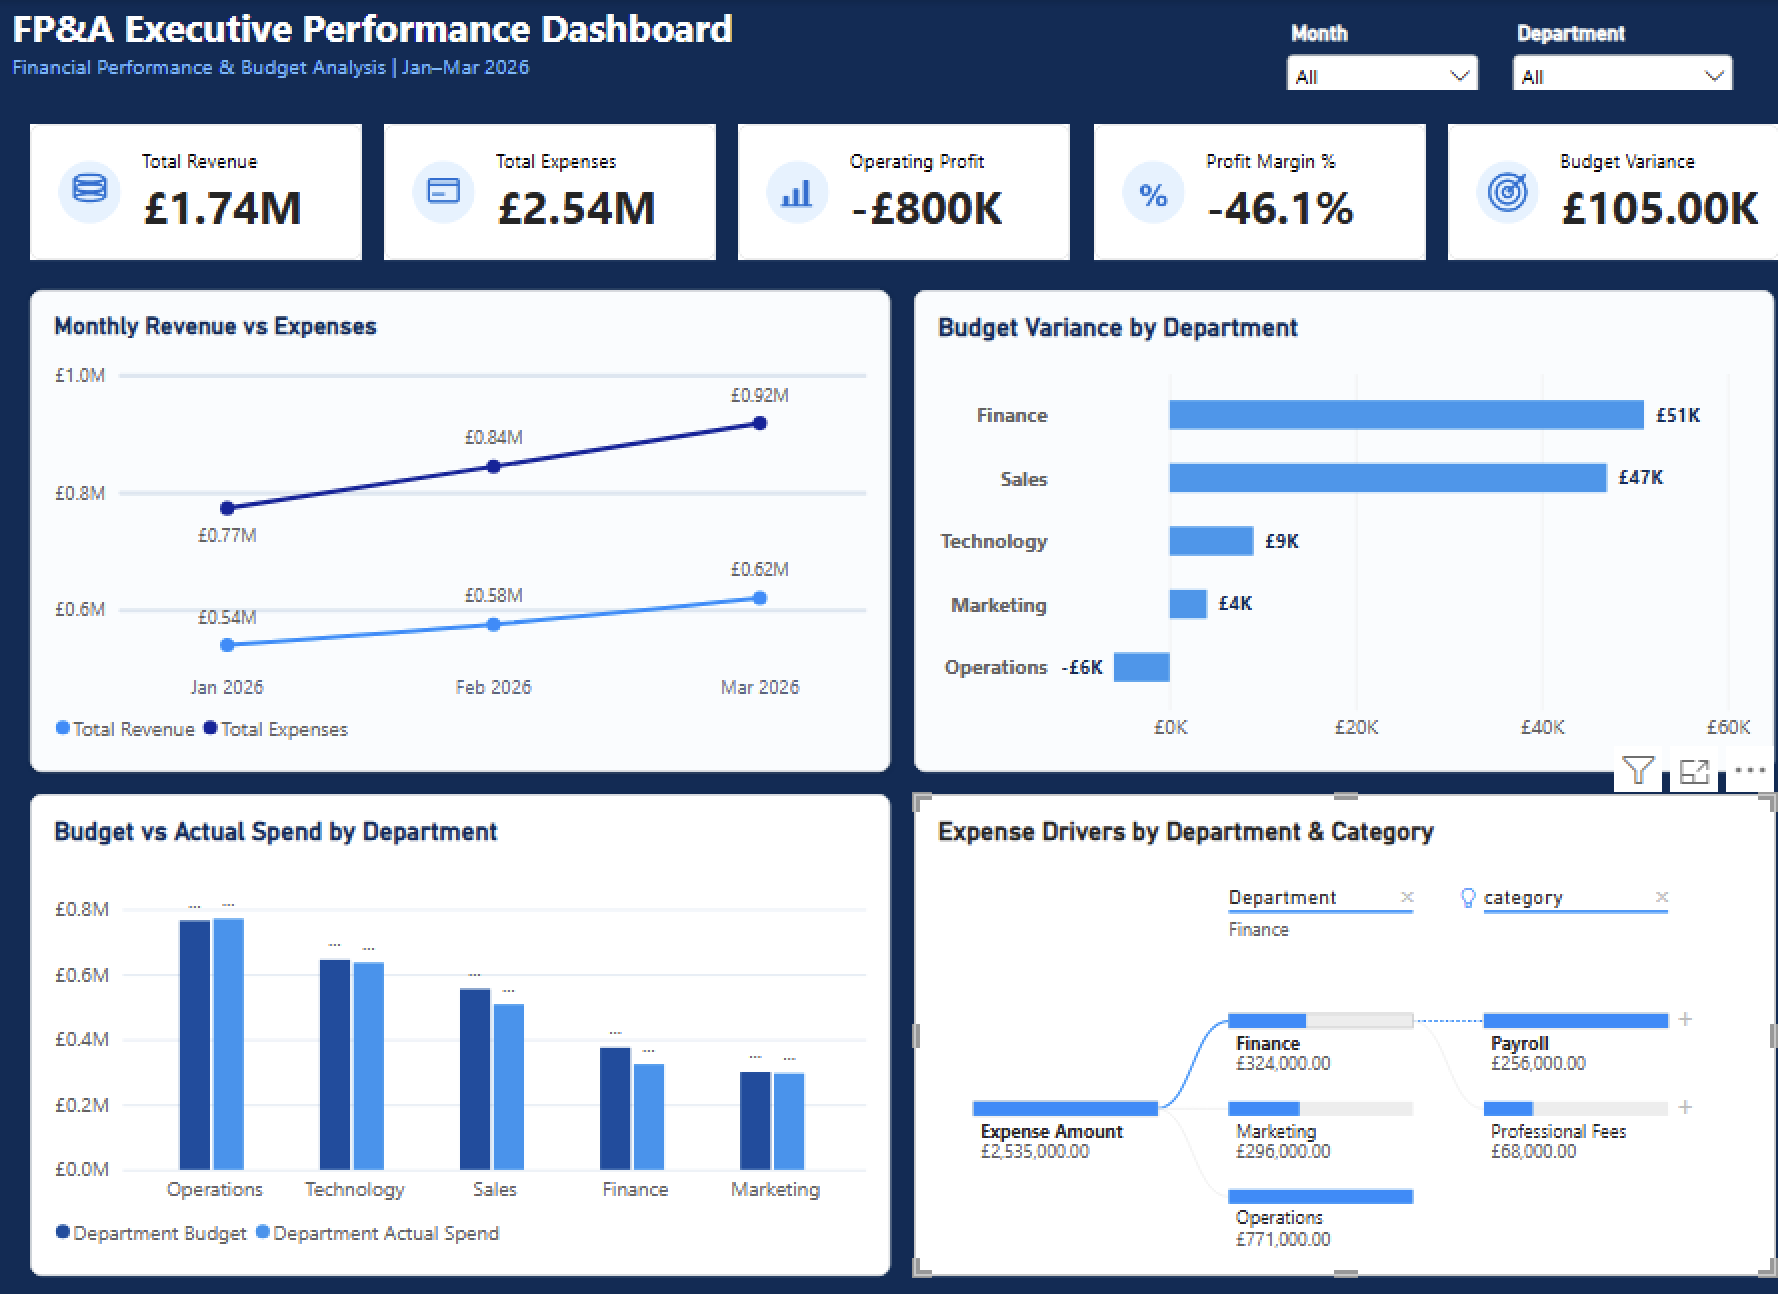

Layout of this report page (visuals, bound fields, positions):
{"tool":"powerbi","page":{"name":"Page 1","canvas":[1280,924],"ordinal":0},"visuals":[{"type":"shape","box":[0,0,1280,72],"z":0},{"type":"textbox","box":[10,0,280,280],"z":1000},{"type":"textbox","box":[11.1,0,1280,68],"z":2000},{"type":"cardVisual","fields":{"Data":["Monthly KPIs.Total Revenue"]},"box":[24,88,234,96],"z":3000},{"type":"lineChart","title":"Monthly Revenue vs Expenses","fields":{"Category":["Dim Date.Month"],"Y":["Monthly KPIs.Total Revenue","Monthly KPIs.Total Expenses"]},"box":[24,204,607,340],"z":4000},{"type":"clusteredColumnChart","title":"Budget vs Actual Spend by Department","fields":{"Category":["Dim Department.Department"],"Y":["Department Performance.Department Budget","Department Performance.Department Actual Spend"]},"box":[24,560,607,340],"z":5000},{"type":"clusteredBarChart","title":"Budget Variance by Department","fields":{"Category":["Dim Department.Department"],"Y":["Department Performance.Department Variance"]},"box":[648,204,607,340],"z":6000},{"type":"slicer","fields":{"Values":["Dim Date.Month"]},"box":[905,15,145,48],"z":7000},{"type":"slicer","fields":{"Values":["Dim Department.Department"]},"box":[1065,15,165,48],"z":8000},{"type":"cardVisual","fields":{"Data":["Monthly KPIs.Total Expenses"]},"box":[274,88,234,96],"z":9000},{"type":"cardVisual","fields":{"Data":["Monthly KPIs.Operating Profit"]},"box":[524,88,234,96],"z":10000},{"type":"cardVisual","fields":{"Data":["Monthly KPIs.Profit Margin %"]},"box":[774,88,234,96],"z":11000},{"type":"cardVisual","fields":{"Data":["Monthly KPIs.Budget Variance"]},"box":[1024,88,234,96],"z":12000},{"type":"decompositionTreeVisual","title":"Expense Drivers by Department & Category","fields":{"Analyze":["Transaction Detail.Expense Amount"],"ExplainBy":["Dim Department.Department","Transaction Detail.category","Dim Date.Month"]},"box":[648,560,607.7,340],"z":12001}]}

Visuals, with their boxes in screenshot pixels (x1, y1, x2, y2), scaled from the page's 1280x924 canvas onto the 1778x1294 screenshot:
shape: bbox(0, 0, 1777, 101)
textbox: bbox(14, 0, 403, 392)
textbox: bbox(15, 0, 1777, 95)
cardVisual - Monthly KPIs.Total Revenue: bbox(33, 123, 358, 258)
"Monthly Revenue vs Expenses" lineChart: bbox(33, 286, 876, 762)
"Budget vs Actual Spend by Department" clusteredColumnChart: bbox(33, 784, 876, 1260)
"Budget Variance by Department" clusteredBarChart: bbox(900, 286, 1743, 762)
slicer - Dim Date.Month: bbox(1257, 21, 1459, 88)
slicer - Dim Department.Department: bbox(1479, 21, 1709, 88)
cardVisual - Monthly KPIs.Total Expenses: bbox(381, 123, 706, 258)
cardVisual - Monthly KPIs.Operating Profit: bbox(728, 123, 1053, 258)
cardVisual - Monthly KPIs.Profit Margin %: bbox(1075, 123, 1400, 258)
cardVisual - Monthly KPIs.Budget Variance: bbox(1422, 123, 1747, 258)
"Expense Drivers by Department & Category" decompositionTreeVisual: bbox(900, 784, 1744, 1260)
